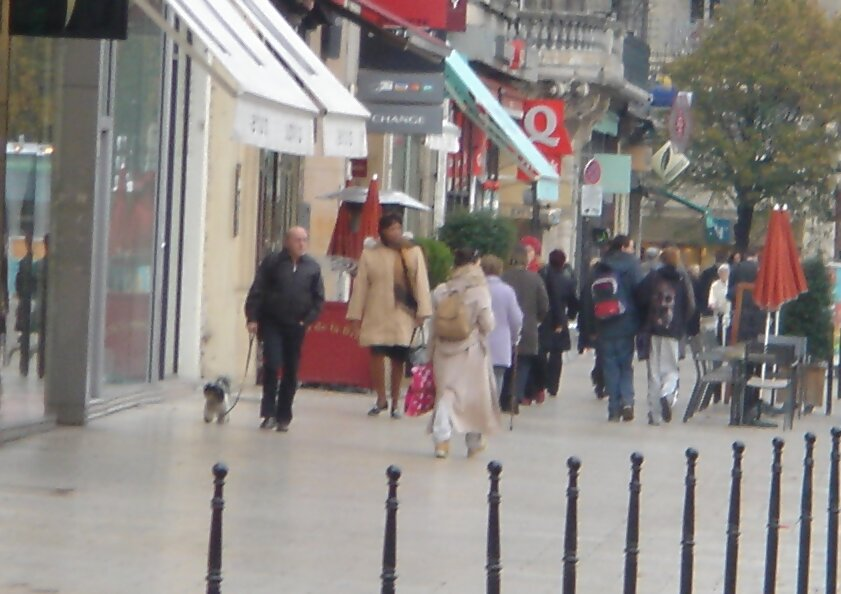person: (246, 222, 323, 442), (358, 210, 430, 419), (584, 233, 658, 426), (430, 247, 493, 464)
